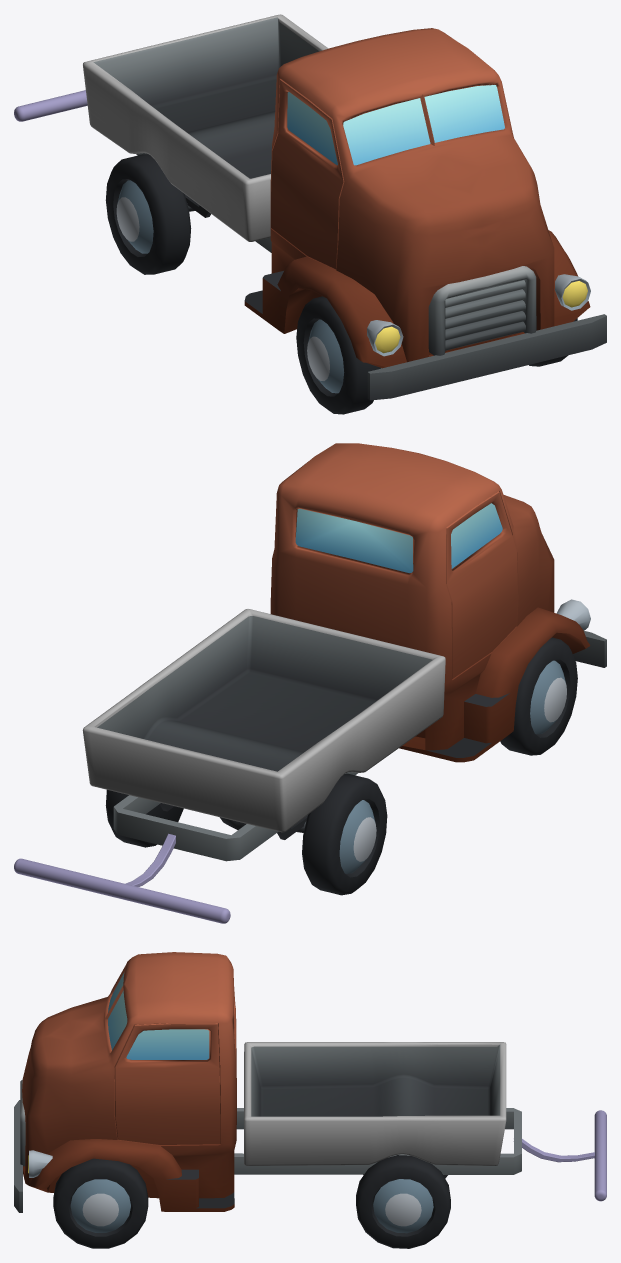
File: RescueCar1.fbx
3 renders of one model, top to bottom at view 1: azimuth 30°, elevation 25°; view 2: azimuth 150°, elevation 25°; view 3: azimuth 270°, elevation 25°, orthographic. The views are drawn at different scales.
Parts seen in each view (by area): view 1: RescueCar.005; view 2: RescueCar.005; view 3: RescueCar.005.
Boxes of the visible parts, x1,y1,x2,y2 form: RescueCar.005: [14, 14, 606, 414]; RescueCar.005: [14, 443, 606, 923]; RescueCar.005: [14, 952, 606, 1248].
Size of the model in its own units: 226 by 265 by 617.
